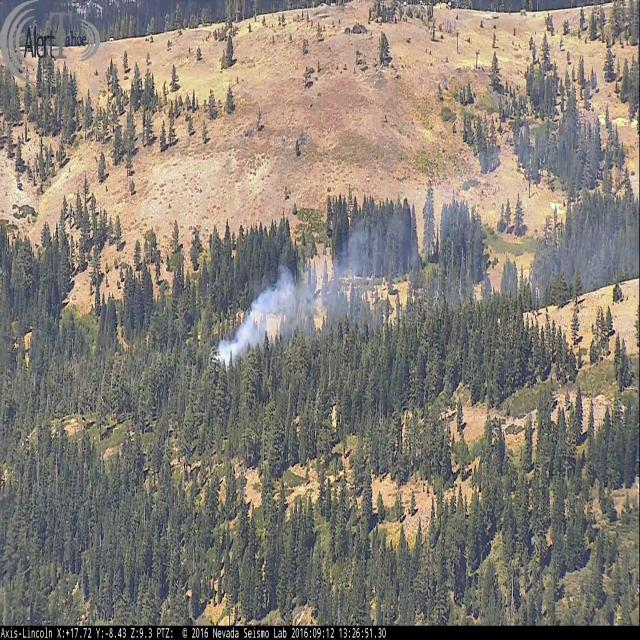smoke: (217, 105, 640, 362)
